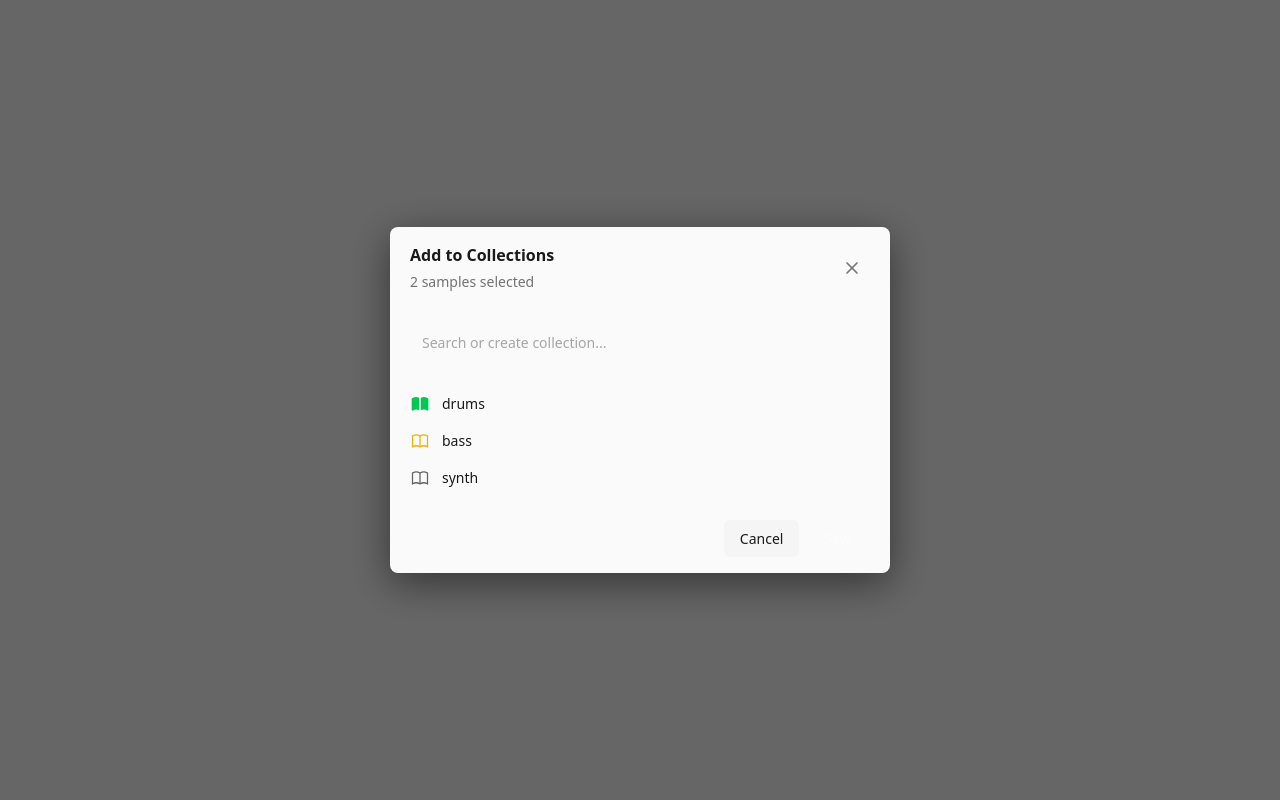
Test: CollectionPopup › Search functionality › filters collections by search query
Type "drum" into the field with placeholder "Search or create collection..." at point(640, 342), box [410,324,870,361]
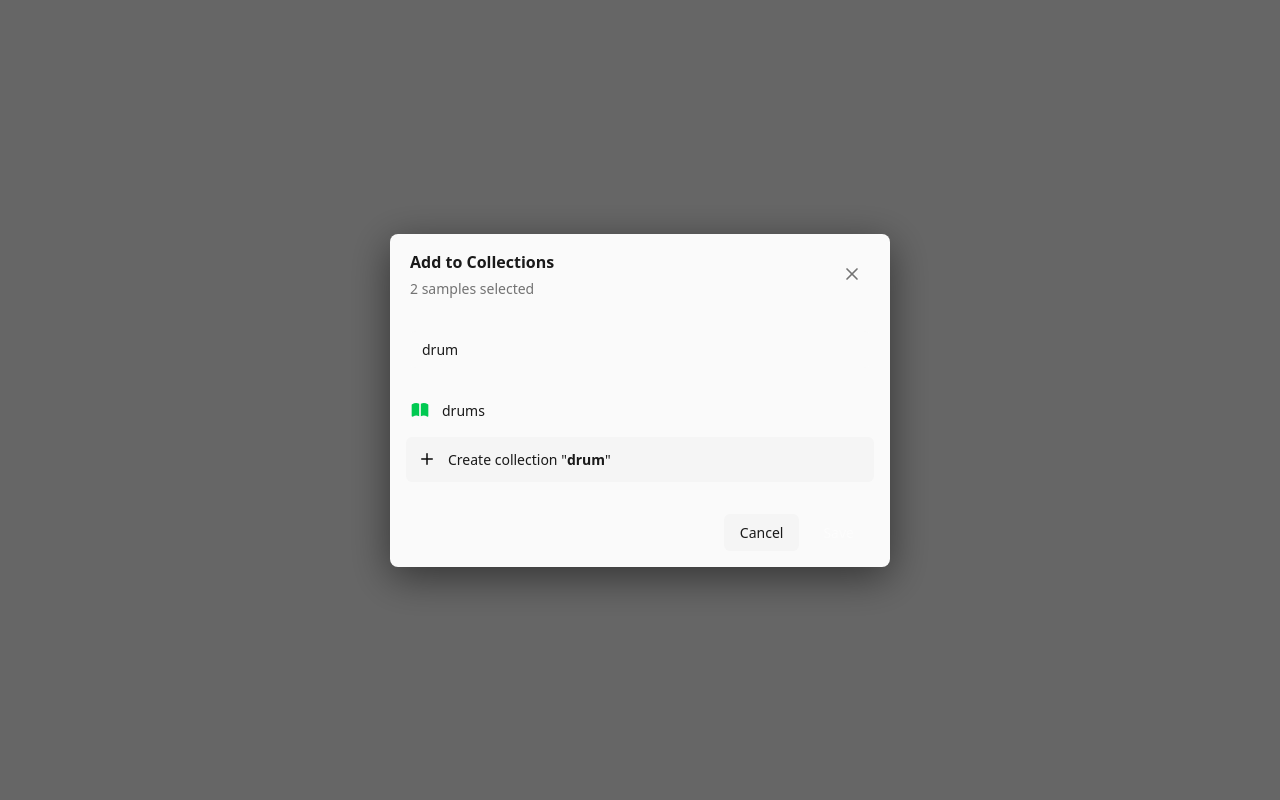
Check: the text "drums" is shown, box [442,400,485,420]
Check: the text "bass" is gone
Check: the text "synth" is gone
